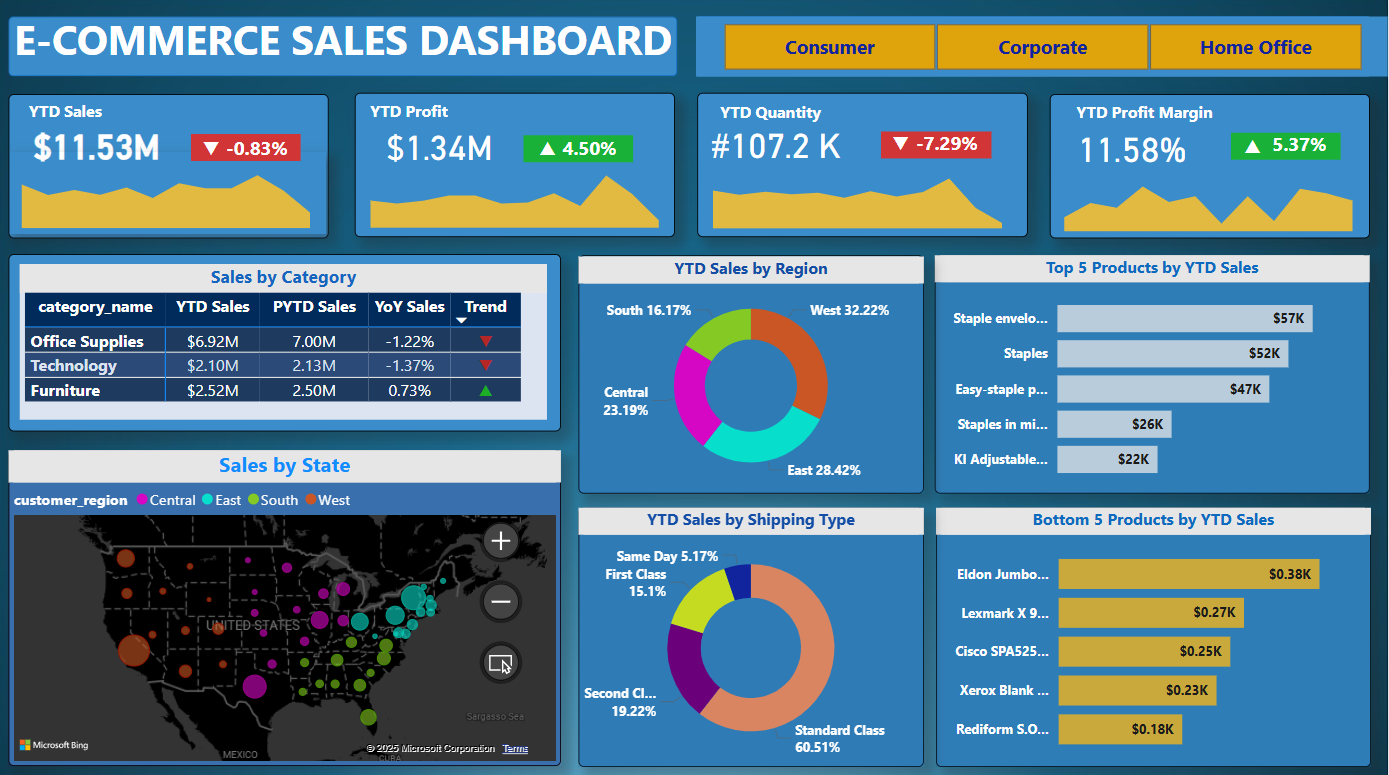

The dashboard page shown, as its layout file describes it:
{"tool":"powerbi","page":{"name":"Dashboard","canvas":[1280,720],"ordinal":0},"visuals":[{"type":"shape","box":[11.4,15.7,615,55],"z":0},{"type":"textbox","box":[11.7,7.3,615.1,71.4],"z":1000},{"type":"textbox","box":[11.4,87.2,294.6,133],"z":2000},{"type":"card","fields":{"Values":["Ecommerce_tb.YTD Sales"]},"box":[0,84.5,185.1,97.7],"z":3000},{"type":"areaChart","fields":{"Category":["Calendar.Month"],"Y":["Sum(Ecommerce_tb.sales_per_order)"]},"box":[8.7,139.9,294.4,75.8],"z":4000},{"type":"shape","box":[179.3,123.9,100.6,24.8],"z":5000},{"type":"card","fields":{"Values":["Ecommerce_tb.YoY Sales"]},"box":[199.7,107.9,80.2,61.2],"z":6000},{"type":"card","fields":{"Values":["Ecommerce_tb.Sales Icon"]},"box":[158.9,122.4,78.7,24.8],"z":7000},{"type":"textbox","box":[24.8,87.5,110.8,30.6],"z":8000},{"type":"textbox","box":[329.4,86,294.4,132.6],"z":9000},{"type":"areaChart","fields":{"Category":["Calendar.Month"],"Y":["Sum(Ecommerce_tb.profit_per_order)"]},"box":[329.4,147.2,294.4,68.5],"z":10000},{"type":"shape","box":[485.4,125.3,100.6,24.8],"z":11000},{"type":"card","fields":{"Values":["Ecommerce_tb.YoY Profit"]},"box":[505.8,107.9,80.2,61.2],"z":12000},{"type":"card","fields":{"Values":["Ecommerce_tb.Profit Icon"]},"box":[467.9,122.4,78.7,24.8],"z":13000},{"type":"textbox","box":[339.6,87.5,110.8,30.6],"z":14000},{"type":"card","fields":{"Values":["Ecommerce_tb.YTD Profit"]},"box":[349.8,104.9,116.6,59.8],"z":15000},{"type":"textbox","box":[644.3,85.7,304.3,132.9],"z":16000},{"type":"areaChart","fields":{"Category":["Calendar.Month"],"Y":["Sum(Ecommerce_tb.order_quantity)"]},"box":[645,150,295,66.7],"z":17000},{"type":"shape","box":[813.3,121.7,101.7,25],"z":18000},{"type":"card","fields":{"Values":["Ecommerce_tb.YoY Qty"]},"box":[835,105,80,60],"z":19000},{"type":"card","fields":{"Values":["Ecommerce_tb.Qty Icon"]},"box":[791.7,118.3,80,25],"z":20000},{"type":"textbox","box":[661.4,88.6,111.4,31.4],"z":21000},{"type":"card","fields":{"Values":["Ecommerce_tb.YTD Concatenated Qty"]},"box":[644.2,103.5,147.2,59.8],"z":22000},{"type":"textbox","box":[969.3,87.5,294.4,132.6],"z":23000},{"type":"areaChart","fields":{"Category":["Calendar.Month"],"Y":["Ecommerce_tb.Profit Margin"]},"box":[967.8,151.6,294.4,67],"z":24000},{"type":"shape","box":[1135.4,122.4,100.6,24.8],"z":25000},{"type":"card","fields":{"Values":["Ecommerce_tb.YoY Profit Margin"]},"box":[1158.3,105,80,61.7],"z":26000},{"type":"card","fields":{"Values":["Ecommerce_tb.Profit Margin Icon"]},"box":[1115.7,121.4,78.6,24.3],"z":27000},{"type":"textbox","box":[988.6,88.6,291.4,31.4],"z":28000},{"type":"card","fields":{"Values":["Ecommerce_tb.YTD Profit Margin"]},"box":[971.7,106.7,146.7,60],"z":29000},{"type":"textbox","box":[11.7,235,508.3,163.3],"z":30000},{"type":"pivotTable","title":"Sales by Category","fields":{"Rows":["Ecommerce_tb.category_name"],"Values":["Ecommerce_tb.YTD Sales","Ecommerce_tb.PYTD Sales","Ecommerce_tb.YoY Sales","Ecommerce_tb.Sales Icon"]},"box":[21.7,243.3,485,143.3],"z":31000},{"type":"textbox","box":[11.7,415,508.3,290],"z":32000},{"type":"map","title":"Sales by State","fields":{"Y":["us_state_long_lat_codes.latitude"],"X":["us_state_long_lat_codes.longitude"],"Size":["Ecommerce_tb.YTD Sales"],"Series":["Ecommerce_tb.customer_region"]},"box":[12.1,415,507.9,290.8],"z":33000},{"type":"textbox","box":[862.8,235.2,399.6,219.3],"z":34000},{"type":"textbox","box":[864.2,467.5,399.6,238.1],"z":35000},{"type":"barChart","title":"Top 5 Products by YTD Sales","fields":{"Category":["Ecommerce_tb.product_name"],"Y":["Ecommerce_tb.YTD Sales"]},"box":[862.8,235.2,399.6,219.3],"z":36000},{"type":"barChart","title":"Bottom 5 Products by YTD Sales","fields":{"Category":["Ecommerce_tb.product_name"],"Y":["Ecommerce_tb.YTD Sales"]},"box":[864.2,467.5,399.6,238.1],"z":37000},{"type":"textbox","box":[535.3,235.2,317.4,219.3],"z":38000},{"type":"textbox","box":[535.3,467.5,317.4,238.1],"z":39000},{"type":"donutChart","title":"YTD Sales by Region","fields":{"Y":["Ecommerce_tb.YTD Sales"],"Category":["Ecommerce_tb.customer_region"]},"box":[535.3,236.6,317.4,217.9],"z":40000},{"type":"donutChart","title":"YTD Sales by Shipping Type","fields":{"Y":["Ecommerce_tb.YTD Sales"],"Category":["Ecommerce_tb.shipping_type"]},"box":[535.3,467.5,317.4,238.1],"z":41000},{"type":"shape","box":[644.9,15.9,617.5,54.8],"z":42000},{"type":"slicer","fields":{"Values":["Ecommerce_tb.customer_segment"]},"box":[644.2,15.7,635.8,55.5],"z":43000}]}

Visuals, with their boxes in screenshot pixels (x1, y1, x2, y2), scaled from the page's 1280x720 canvas onto the 1389x775 screenshot:
shape: [x1=12, y1=17, x2=680, y2=76]
textbox: [x1=13, y1=8, x2=680, y2=85]
textbox: [x1=12, y1=94, x2=332, y2=237]
card - Ecommerce_tb.YTD Sales: [x1=0, y1=91, x2=201, y2=196]
areaChart - Calendar.Month x Sum(Ecommerce_tb.sales_per_order): [x1=9, y1=151, x2=329, y2=232]
shape: [x1=195, y1=133, x2=304, y2=160]
card - Ecommerce_tb.YoY Sales: [x1=217, y1=116, x2=304, y2=182]
card - Ecommerce_tb.Sales Icon: [x1=172, y1=132, x2=258, y2=158]
textbox: [x1=27, y1=94, x2=147, y2=127]
textbox: [x1=357, y1=93, x2=677, y2=235]
areaChart - Calendar.Month x Sum(Ecommerce_tb.profit_per_order): [x1=357, y1=158, x2=677, y2=232]
shape: [x1=527, y1=135, x2=636, y2=162]
card - Ecommerce_tb.YoY Profit: [x1=549, y1=116, x2=636, y2=182]
card - Ecommerce_tb.Profit Icon: [x1=508, y1=132, x2=593, y2=158]
textbox: [x1=369, y1=94, x2=489, y2=127]
card - Ecommerce_tb.YTD Profit: [x1=380, y1=113, x2=506, y2=177]
textbox: [x1=699, y1=92, x2=1029, y2=235]
areaChart - Calendar.Month x Sum(Ecommerce_tb.order_quantity): [x1=700, y1=161, x2=1020, y2=233]
shape: [x1=883, y1=131, x2=993, y2=158]
card - Ecommerce_tb.YoY Qty: [x1=906, y1=113, x2=993, y2=178]
card - Ecommerce_tb.Qty Icon: [x1=859, y1=127, x2=946, y2=154]
textbox: [x1=718, y1=95, x2=839, y2=129]
card - Ecommerce_tb.YTD Concatenated Qty: [x1=699, y1=111, x2=859, y2=176]
textbox: [x1=1052, y1=94, x2=1371, y2=237]
areaChart - Calendar.Month x Ecommerce_tb.Profit Margin: [x1=1050, y1=163, x2=1370, y2=235]
shape: [x1=1232, y1=132, x2=1341, y2=158]
card - Ecommerce_tb.YoY Profit Margin: [x1=1257, y1=113, x2=1344, y2=179]
card - Ecommerce_tb.Profit Margin Icon: [x1=1211, y1=131, x2=1296, y2=157]
textbox: [x1=1073, y1=95, x2=1388, y2=129]
card - Ecommerce_tb.YTD Profit Margin: [x1=1054, y1=115, x2=1214, y2=179]
textbox: [x1=13, y1=253, x2=564, y2=429]
"Sales by Category" pivotTable: [x1=24, y1=262, x2=550, y2=416]
textbox: [x1=13, y1=447, x2=564, y2=759]
"Sales by State" map: [x1=13, y1=447, x2=564, y2=760]
textbox: [x1=936, y1=253, x2=1370, y2=489]
textbox: [x1=938, y1=503, x2=1371, y2=760]
"Top 5 Products by YTD Sales" barChart: [x1=936, y1=253, x2=1370, y2=489]
"Bottom 5 Products by YTD Sales" barChart: [x1=938, y1=503, x2=1371, y2=760]
textbox: [x1=581, y1=253, x2=925, y2=489]
textbox: [x1=581, y1=503, x2=925, y2=760]
"YTD Sales by Region" donutChart: [x1=581, y1=255, x2=925, y2=489]
"YTD Sales by Shipping Type" donutChart: [x1=581, y1=503, x2=925, y2=760]
shape: [x1=700, y1=17, x2=1370, y2=76]
slicer - Ecommerce_tb.customer_segment: [x1=699, y1=17, x2=1388, y2=77]
